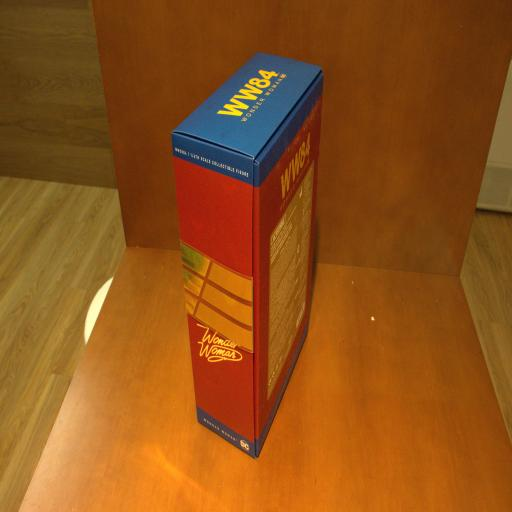WonderWoman: (170, 49, 326, 461)
